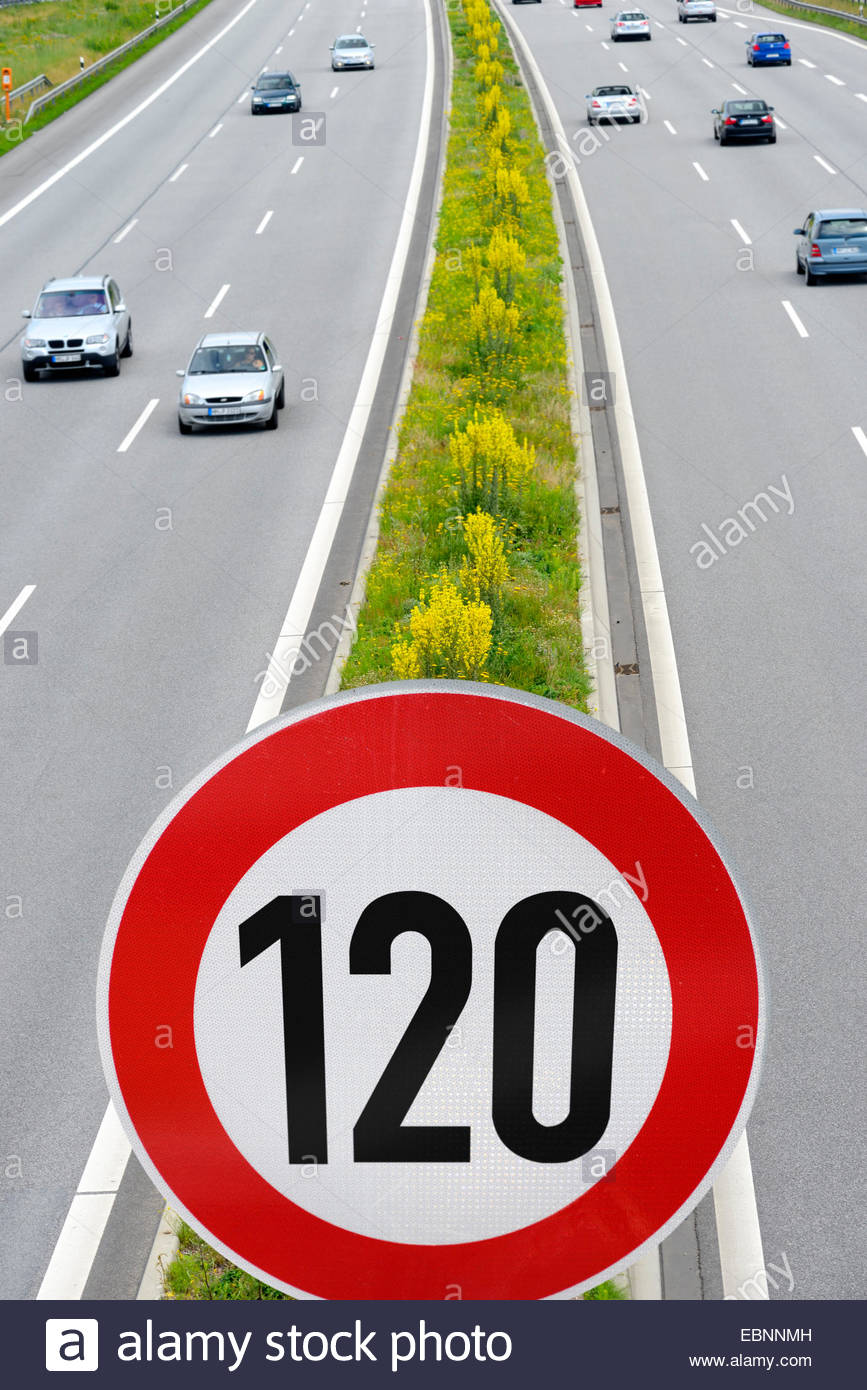Speed_limit_120km: (91, 675, 768, 1305)
car: (13, 271, 138, 388), (170, 329, 288, 443)
